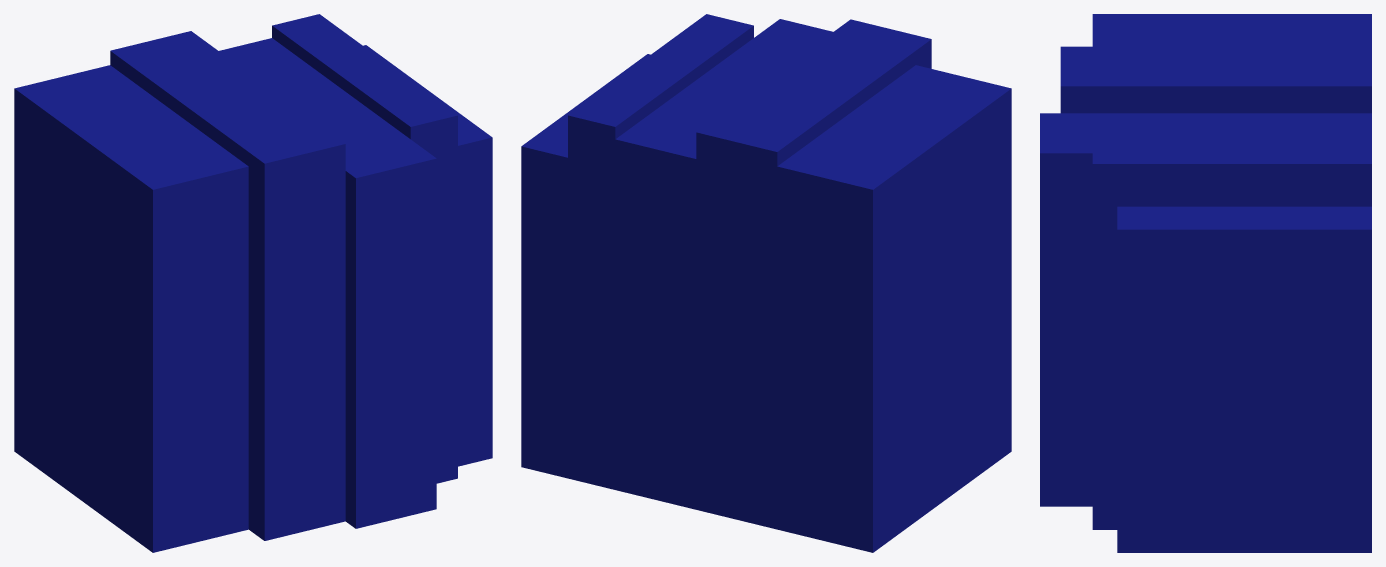
File: SM_BookBlocs_03.fbx
The picture shows the model from 3 angles, left to right: view 1: azimuth 30°, elevation 25°; view 2: azimuth 150°, elevation 25°; view 3: azimuth 270°, elevation 25°; orthographic projection.
Parts seen in each view (by area): view 1: SM_Books_VerySmall; view 2: SM_Books_VerySmall; view 3: SM_Books_VerySmall.
Boxes of the visible parts, x1=… form: SM_Books_VerySmall: x1=14, y1=14, x2=492, y2=552; SM_Books_VerySmall: x1=521, y1=14, x2=1011, y2=552; SM_Books_VerySmall: x1=1040, y1=14, x2=1371, y2=552.
Bounding box in the file's own units: 42.25 × 43.32 × 34.26.
